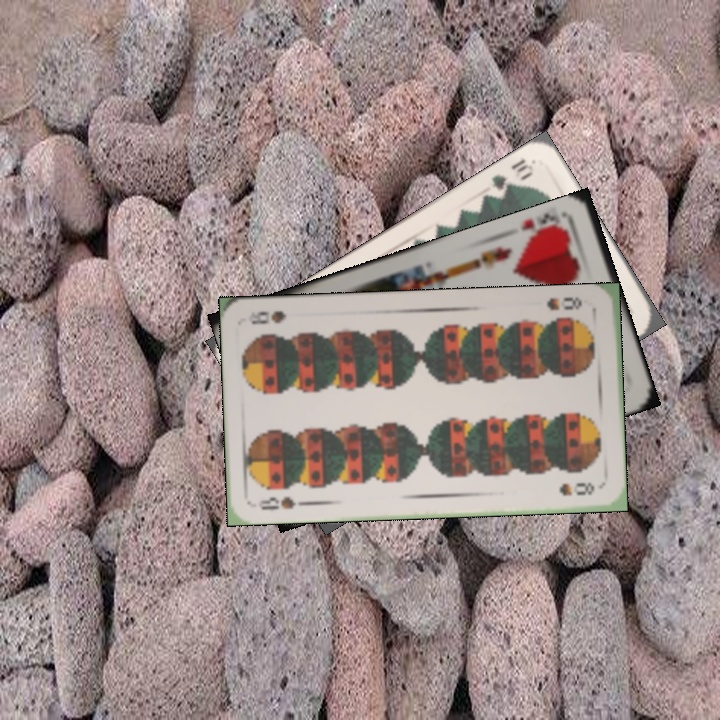G10: (486, 154, 537, 201)
HK: (516, 207, 573, 245)
S8: (254, 492, 311, 513), (542, 293, 585, 313)
